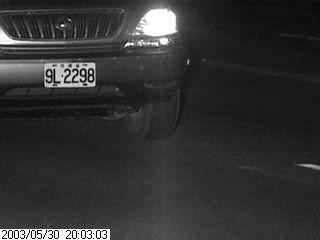plate: (42, 60, 96, 89)
